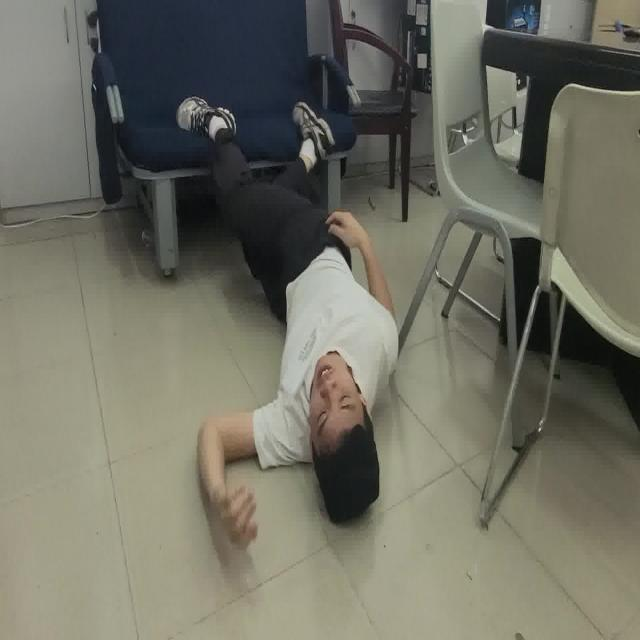fall: (173, 89, 401, 550)
